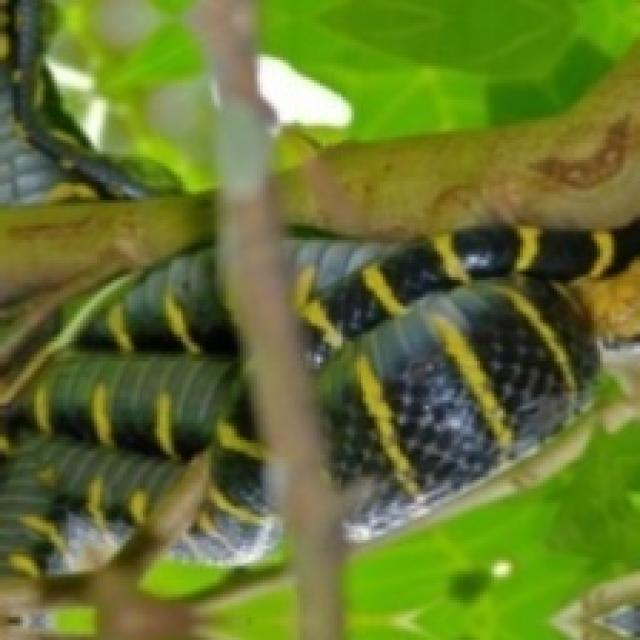mangrove cat snake: (290, 220, 639, 541), (0, 244, 282, 577), (0, 0, 145, 203)
